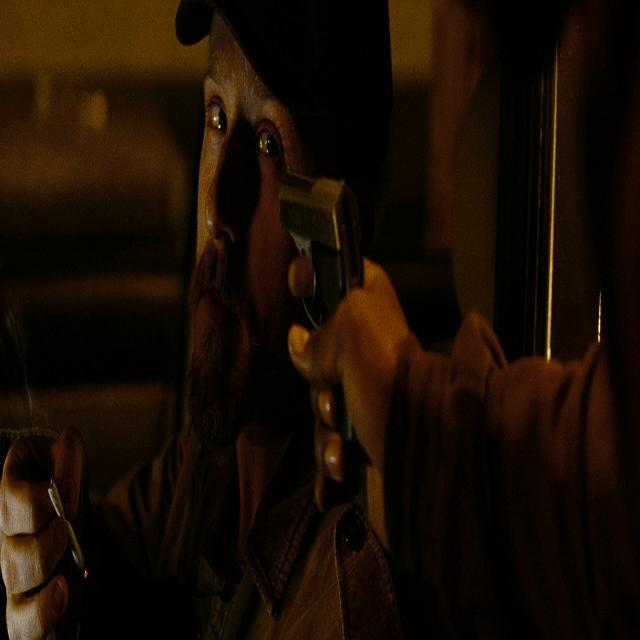gun-knife-thesis - v11 Yolov5 augmented: (277, 153, 369, 504)
